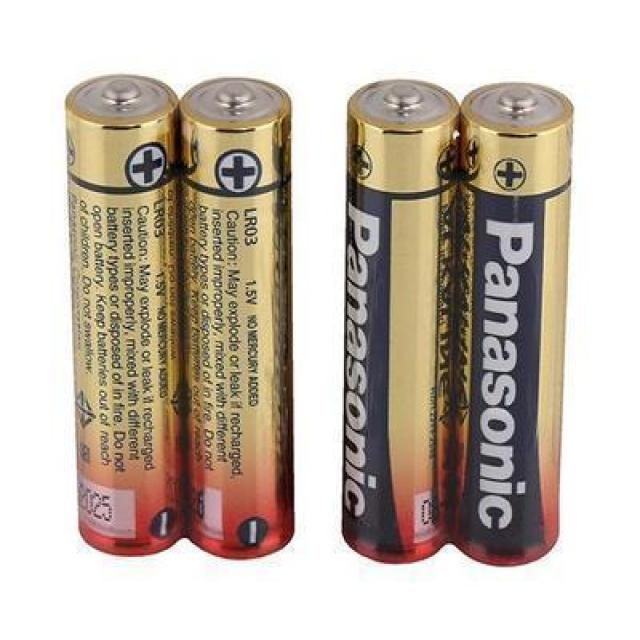AA: (60, 70, 186, 562), (451, 80, 577, 572), (177, 74, 301, 564), (339, 76, 460, 572)
